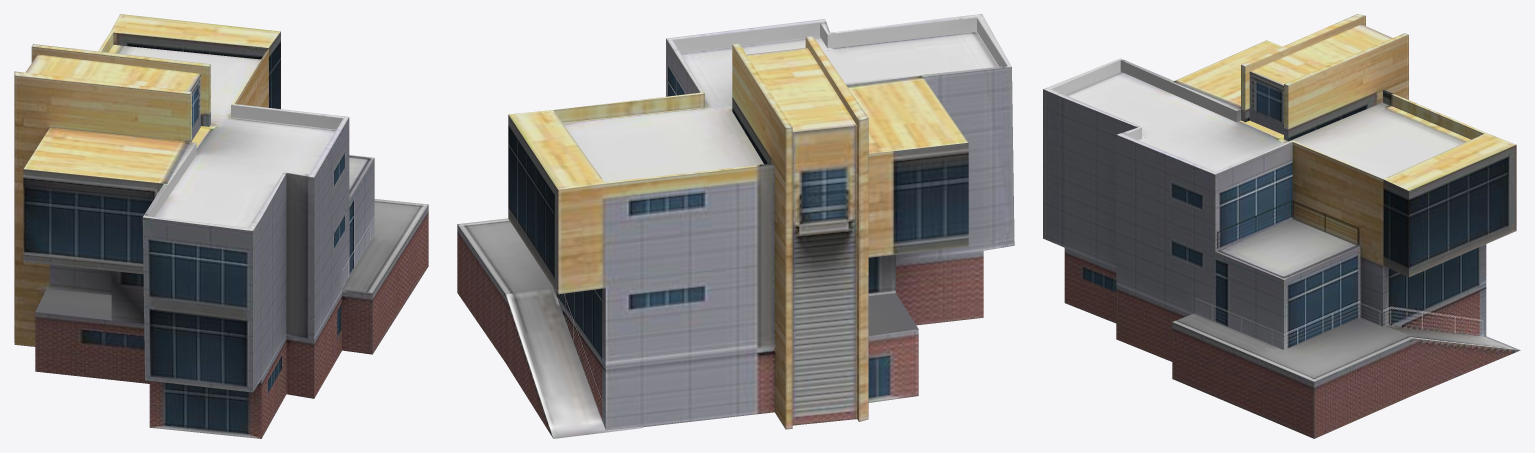
The picture shows the model from 3 angles, left to right: view 1: azimuth 30°, elevation 25°; view 2: azimuth 150°, elevation 25°; view 3: azimuth 270°, elevation 25°; orthographic projection. The views are drawn at different scales.
Visible parts, largest first — view 1: MainBuilding; view 2: MainBuilding; view 3: MainBuilding.
Part boxes in pixels (x1=…): MainBuilding: x1=14, y1=14, x2=428, y2=438; MainBuilding: x1=457, y1=14, x2=1014, y2=438; MainBuilding: x1=1043, y1=14, x2=1520, y2=438.
Bounding box in the file's own units: 1.67 × 0.9974 × 1.73.
1 material, 1 textured.
